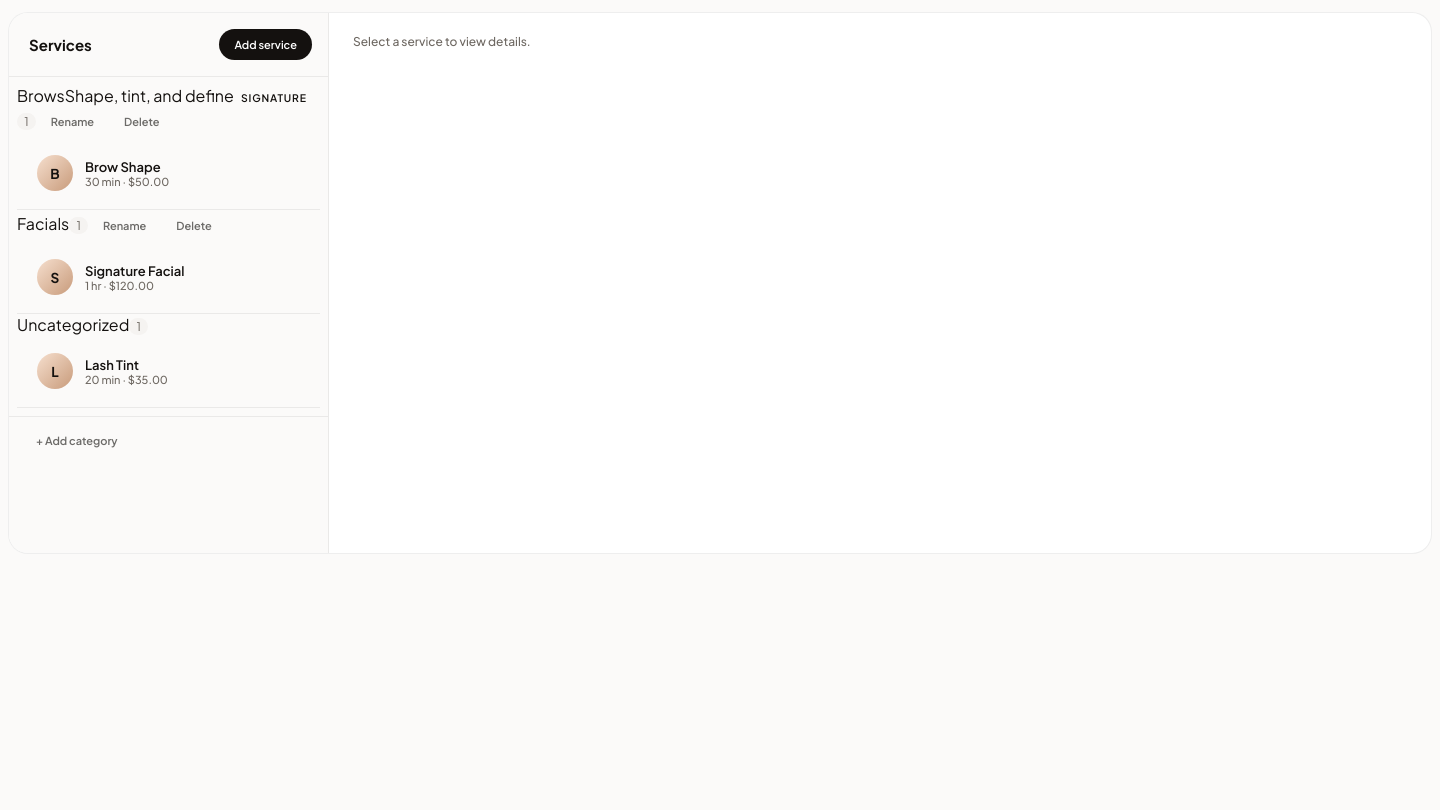
ServicesPage › opens the Rename modal when Rename is clicked on a category
Expected: the text "Brows" is shown, [17,85,65,106]
# Rename button is in the category group header
Click the button "Rename" below "Brows": (72, 122) [36,106,109,137]
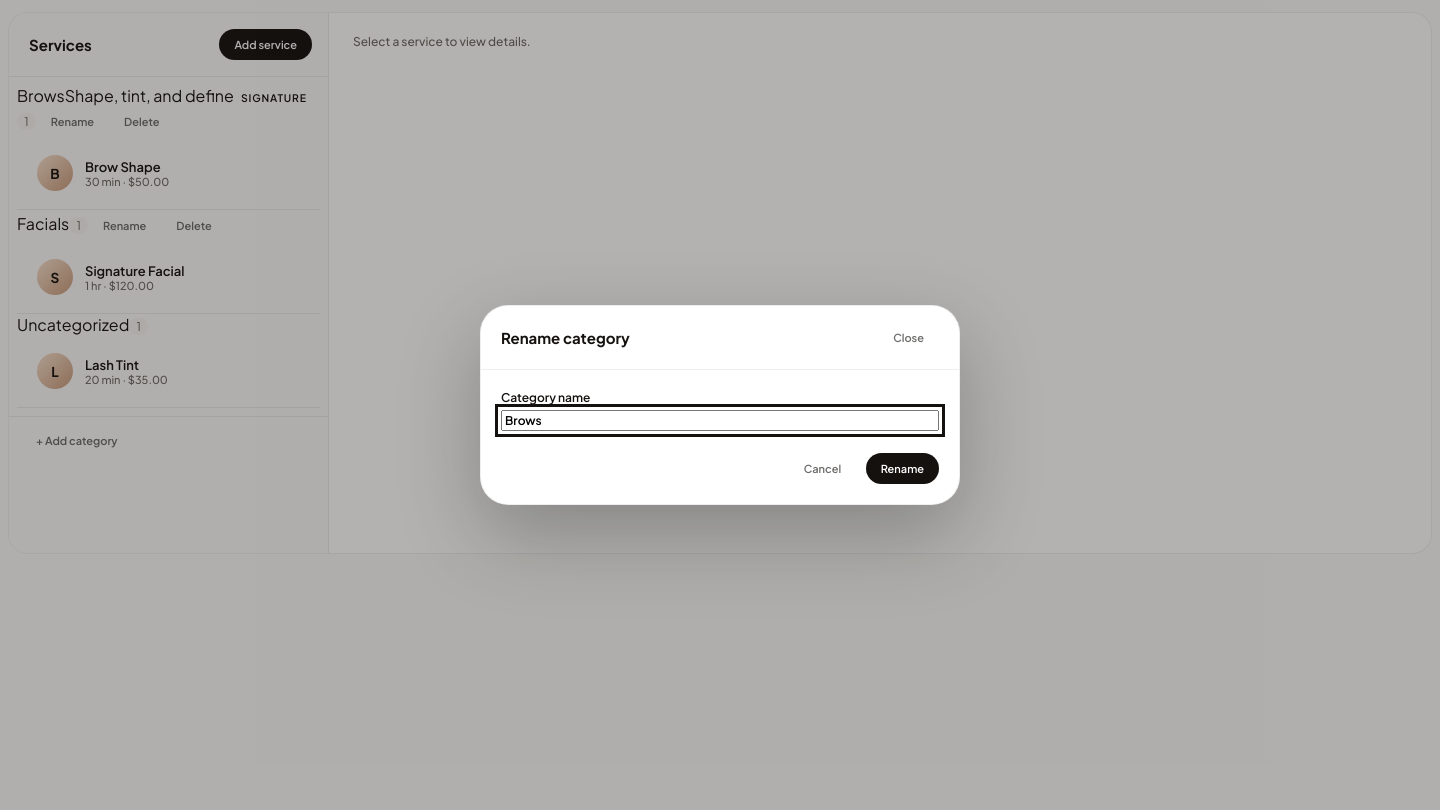
Result: the dialog "Rename category" is shown
Result: the field showing "Brows" is shown at [501,410,939,431]
